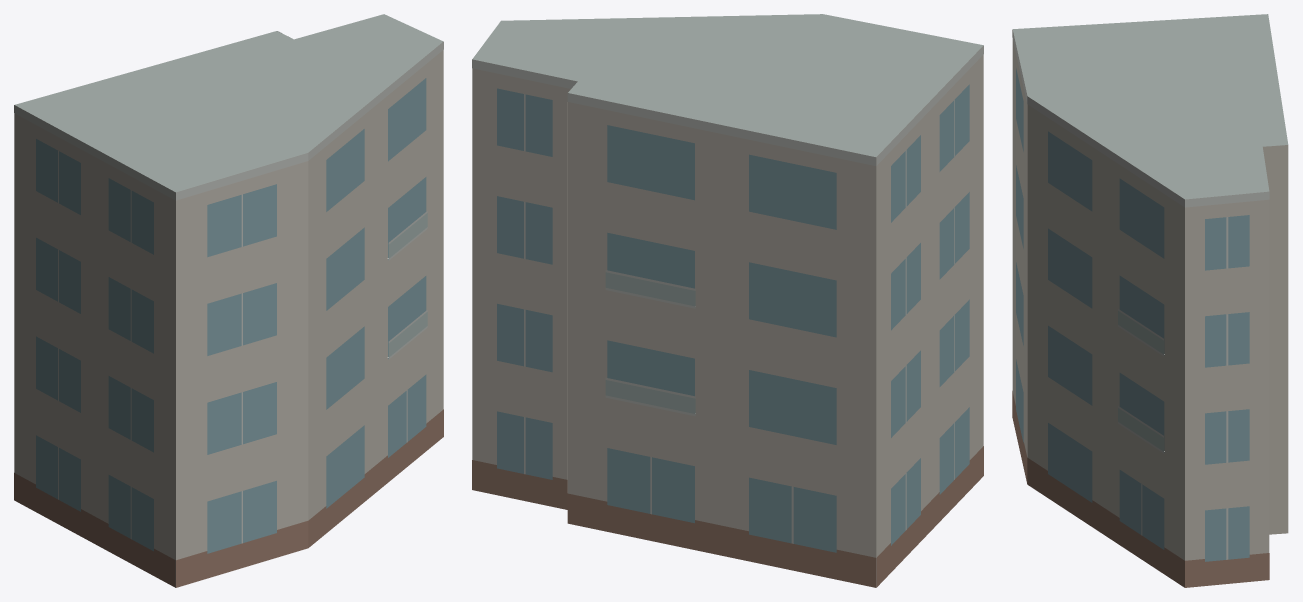
The model's file is survey-upis-33007749.glb.
3 views of the same model, side by side, from view 1: azimuth 30°, elevation 25°; view 2: azimuth 150°, elevation 25°; view 3: azimuth 270°, elevation 25° (orthographic). The views are drawn at different scales.
Parts seen in each view (by area): view 1: survey-upis-33007749.tmp; view 2: survey-upis-33007749.tmp; view 3: survey-upis-33007749.tmp.
Part boxes in pixels (x1,y1,x2,y2): survey-upis-33007749.tmp: [14, 14, 443, 587]; survey-upis-33007749.tmp: [472, 14, 983, 587]; survey-upis-33007749.tmp: [1012, 14, 1288, 587].
Bounding box in the file's own units: 12.05 × 11.75 × 7.57.
